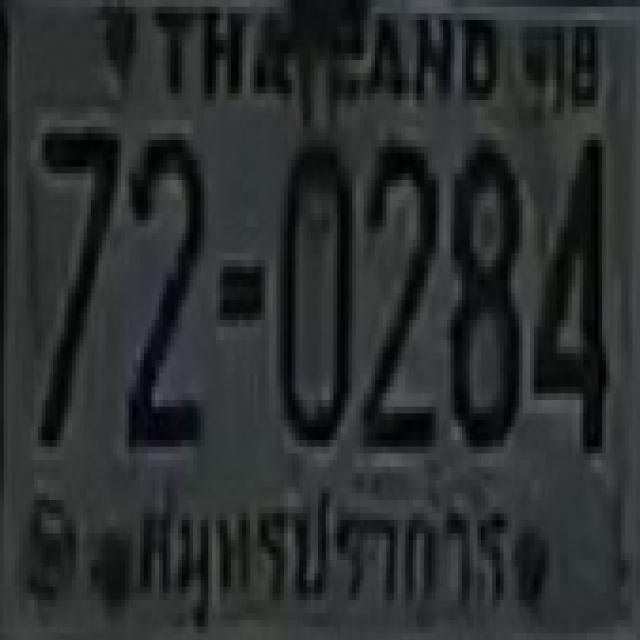0: (276, 137, 348, 443)
2: (125, 130, 201, 443), (360, 137, 435, 443)
4: (530, 133, 606, 447)
7: (38, 120, 117, 440)
8: (447, 137, 519, 443)
SPK: (126, 466, 514, 626)
